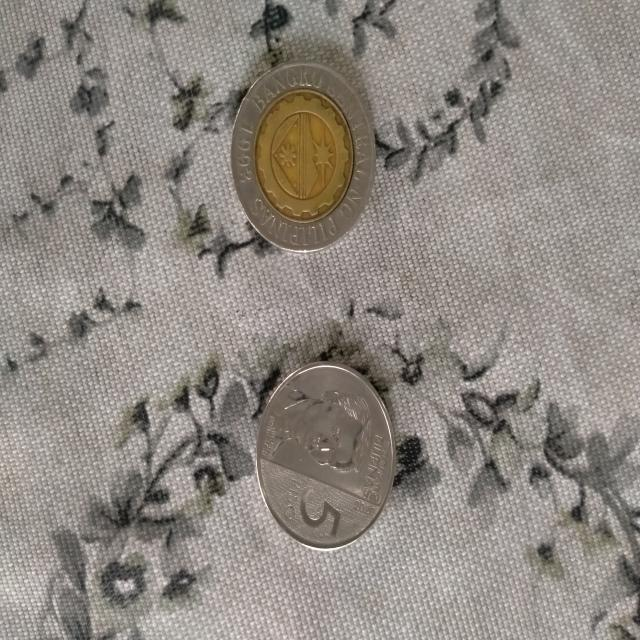10_Old_Back: (238, 63, 365, 247)
5_New_Front: (271, 482, 347, 540)
